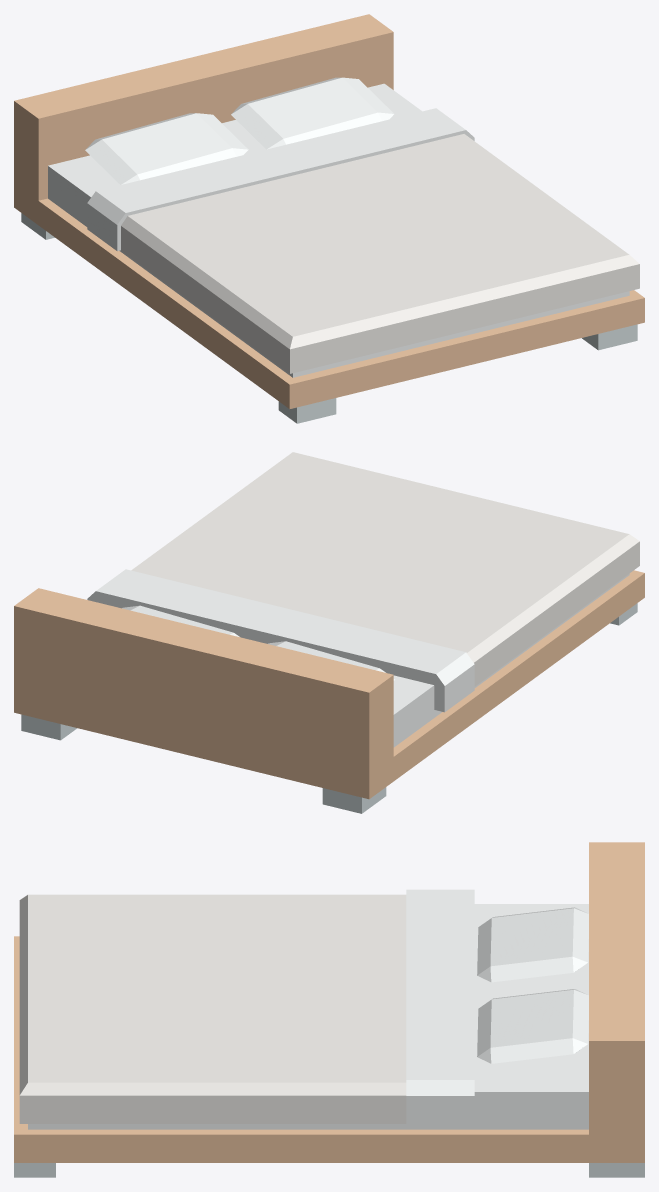
The model's file is bed-queen.glb.
3 renders of one model, top to bottom at view 1: azimuth 30°, elevation 25°; view 2: azimuth 150°, elevation 25°; view 3: azimuth 270°, elevation 25°, orthographic. The views are drawn at different scales.
Parts seen in each view (by area): view 1: bedDouble(Clone), cover; view 2: bedDouble(Clone), cover; view 3: cover, bedDouble(Clone).
Part boxes in pixels (x1,y1,x2,y2): bedDouble(Clone): (14,14,644,423); cover: (121,134,639,373); bedDouble(Clone): (14,569,644,813); cover: (131,452,639,686); cover: (19,894,406,1123); bedDouble(Clone): (14,842,644,1177).
Size of the model in its own units: 1.52 by 0.4999 by 2.03.
